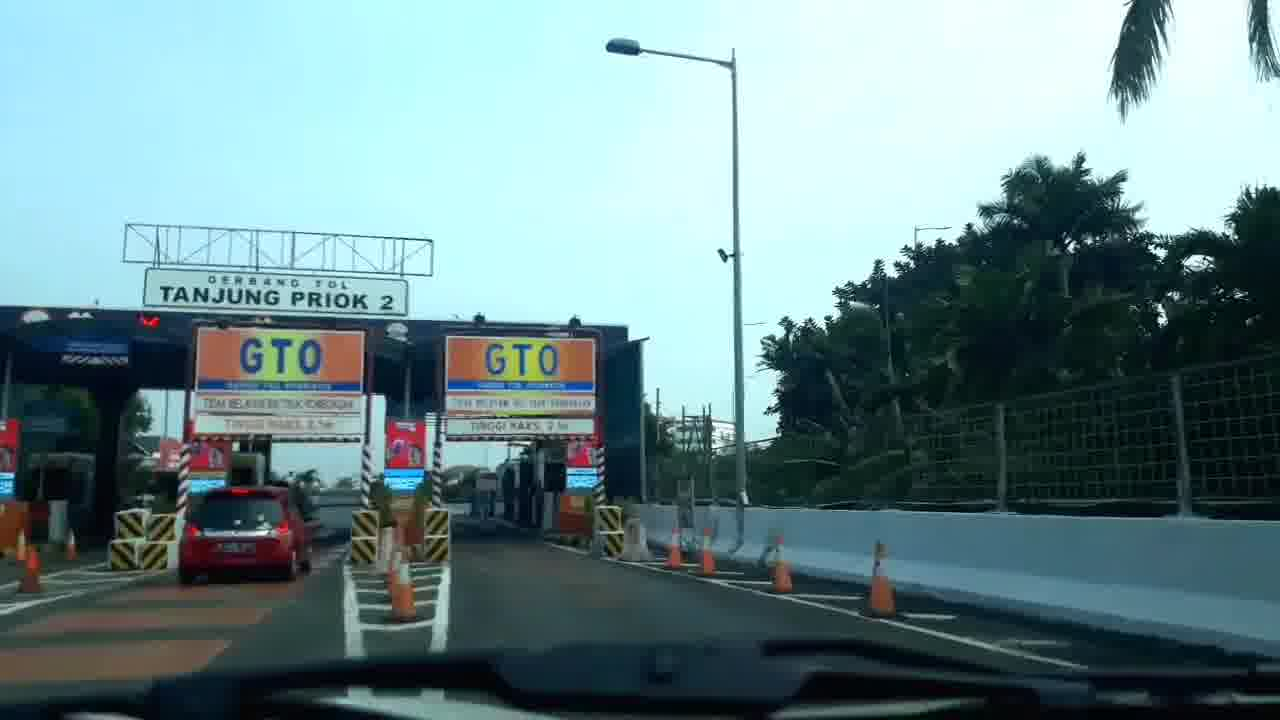plate_positive: (215, 541, 258, 555)
